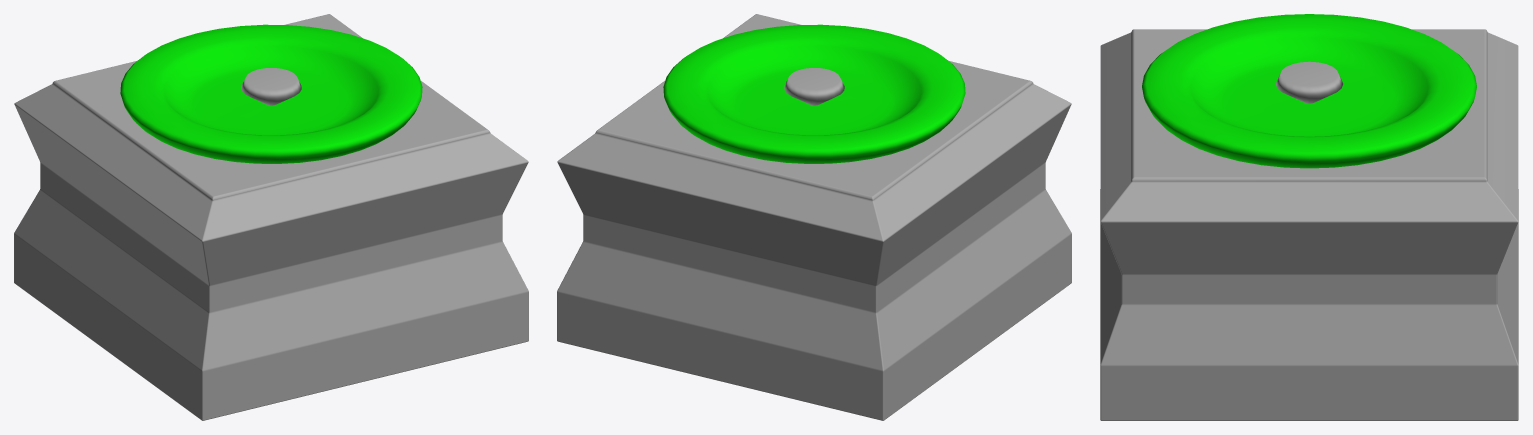
The model's file is holigram_prop.fbx.
3 views of the same model, side by side, from view 1: azimuth 30°, elevation 25°; view 2: azimuth 150°, elevation 25°; view 3: azimuth 270°, elevation 25° (orthographic). The views are drawn at different scales.
Visible parts, largest first — view 1: Holigram; view 2: Holigram; view 3: Holigram.
Part boxes in pixels (box(x1,y1,x2,y2)): Holigram: box(14, 14, 528, 420); Holigram: box(557, 14, 1071, 420); Holigram: box(1100, 14, 1518, 420).
Size of the model in its own units: 8.79 by 6.01 by 8.79.
